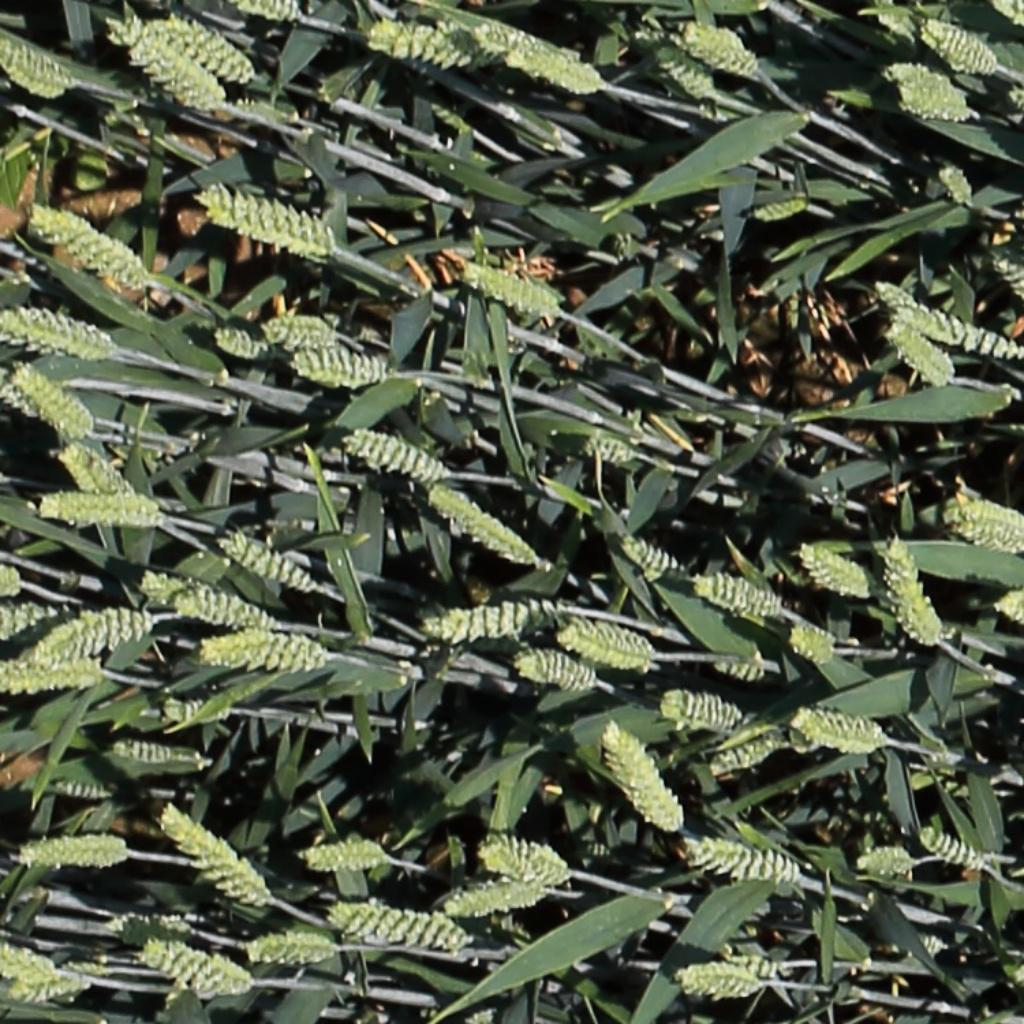0-0: (109, 12, 234, 118), (152, 800, 271, 908), (875, 280, 1024, 360), (598, 722, 689, 837), (33, 205, 150, 289), (139, 5, 258, 87), (428, 488, 543, 572), (195, 188, 333, 249), (419, 592, 578, 640), (32, 604, 158, 663), (140, 571, 261, 628), (882, 533, 939, 651), (137, 943, 257, 999), (8, 365, 97, 435), (218, 533, 318, 593), (169, 586, 296, 633), (557, 616, 659, 674), (678, 833, 798, 882), (2, 305, 114, 356), (363, 18, 475, 69), (199, 628, 328, 672), (331, 905, 461, 948), (36, 492, 161, 535), (457, 260, 557, 312), (341, 430, 445, 480), (482, 829, 570, 886), (506, 49, 607, 98), (17, 827, 130, 870), (441, 874, 549, 918), (1, 40, 78, 101), (884, 319, 954, 386), (0, 655, 104, 700), (921, 20, 1001, 76), (0, 591, 87, 642), (286, 348, 396, 388), (57, 439, 126, 498), (101, 905, 197, 947), (0, 383, 76, 436), (469, 21, 569, 61), (797, 543, 868, 598), (659, 687, 746, 730), (690, 577, 783, 617), (894, 84, 984, 125), (513, 645, 595, 689), (241, 930, 343, 965), (652, 43, 715, 99), (695, 948, 793, 984), (681, 28, 756, 75), (299, 834, 388, 872), (674, 963, 765, 1000), (790, 714, 886, 749), (257, 313, 341, 353), (618, 536, 689, 581), (707, 733, 782, 775), (942, 513, 1024, 551), (917, 830, 992, 871), (884, 61, 961, 98), (159, 690, 231, 726), (954, 503, 1024, 539), (932, 155, 976, 210), (5, 974, 90, 1002), (991, 252, 1024, 319), (208, 326, 278, 357), (857, 843, 917, 879), (110, 738, 189, 763), (582, 430, 633, 465), (786, 626, 834, 663), (1, 950, 54, 983), (746, 195, 808, 222), (236, 0, 300, 21), (708, 658, 765, 681), (996, 1, 1024, 45), (50, 780, 110, 798), (995, 599, 1024, 619), (1007, 968, 1024, 988)
